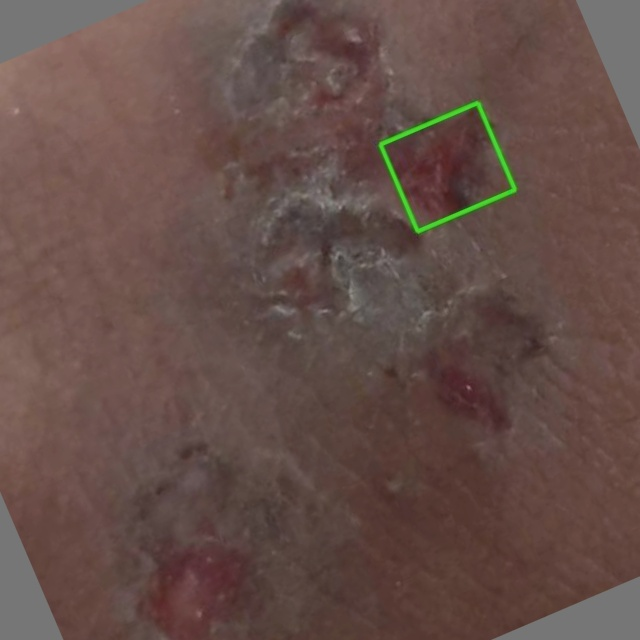Eczema: (380, 102, 514, 231)
